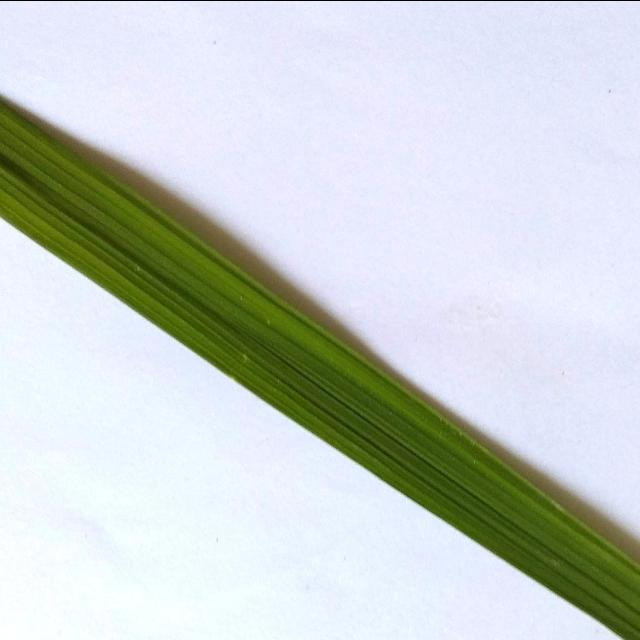healthy: (0, 91, 640, 640)
